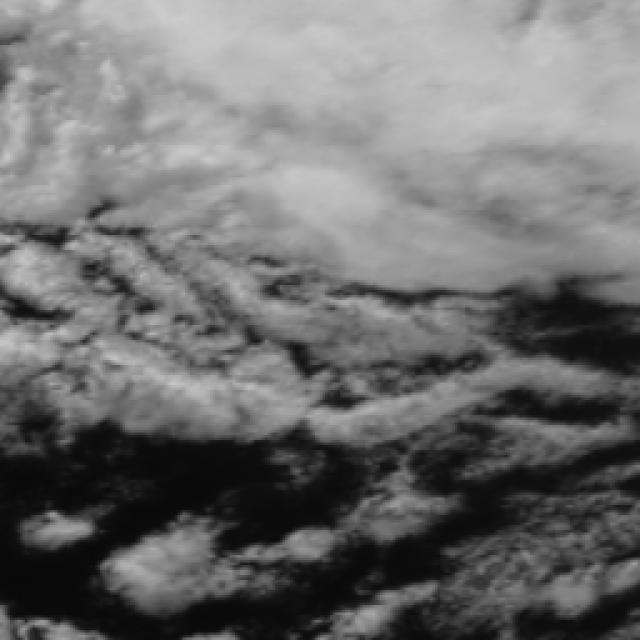CB: (125, 0, 510, 193)
